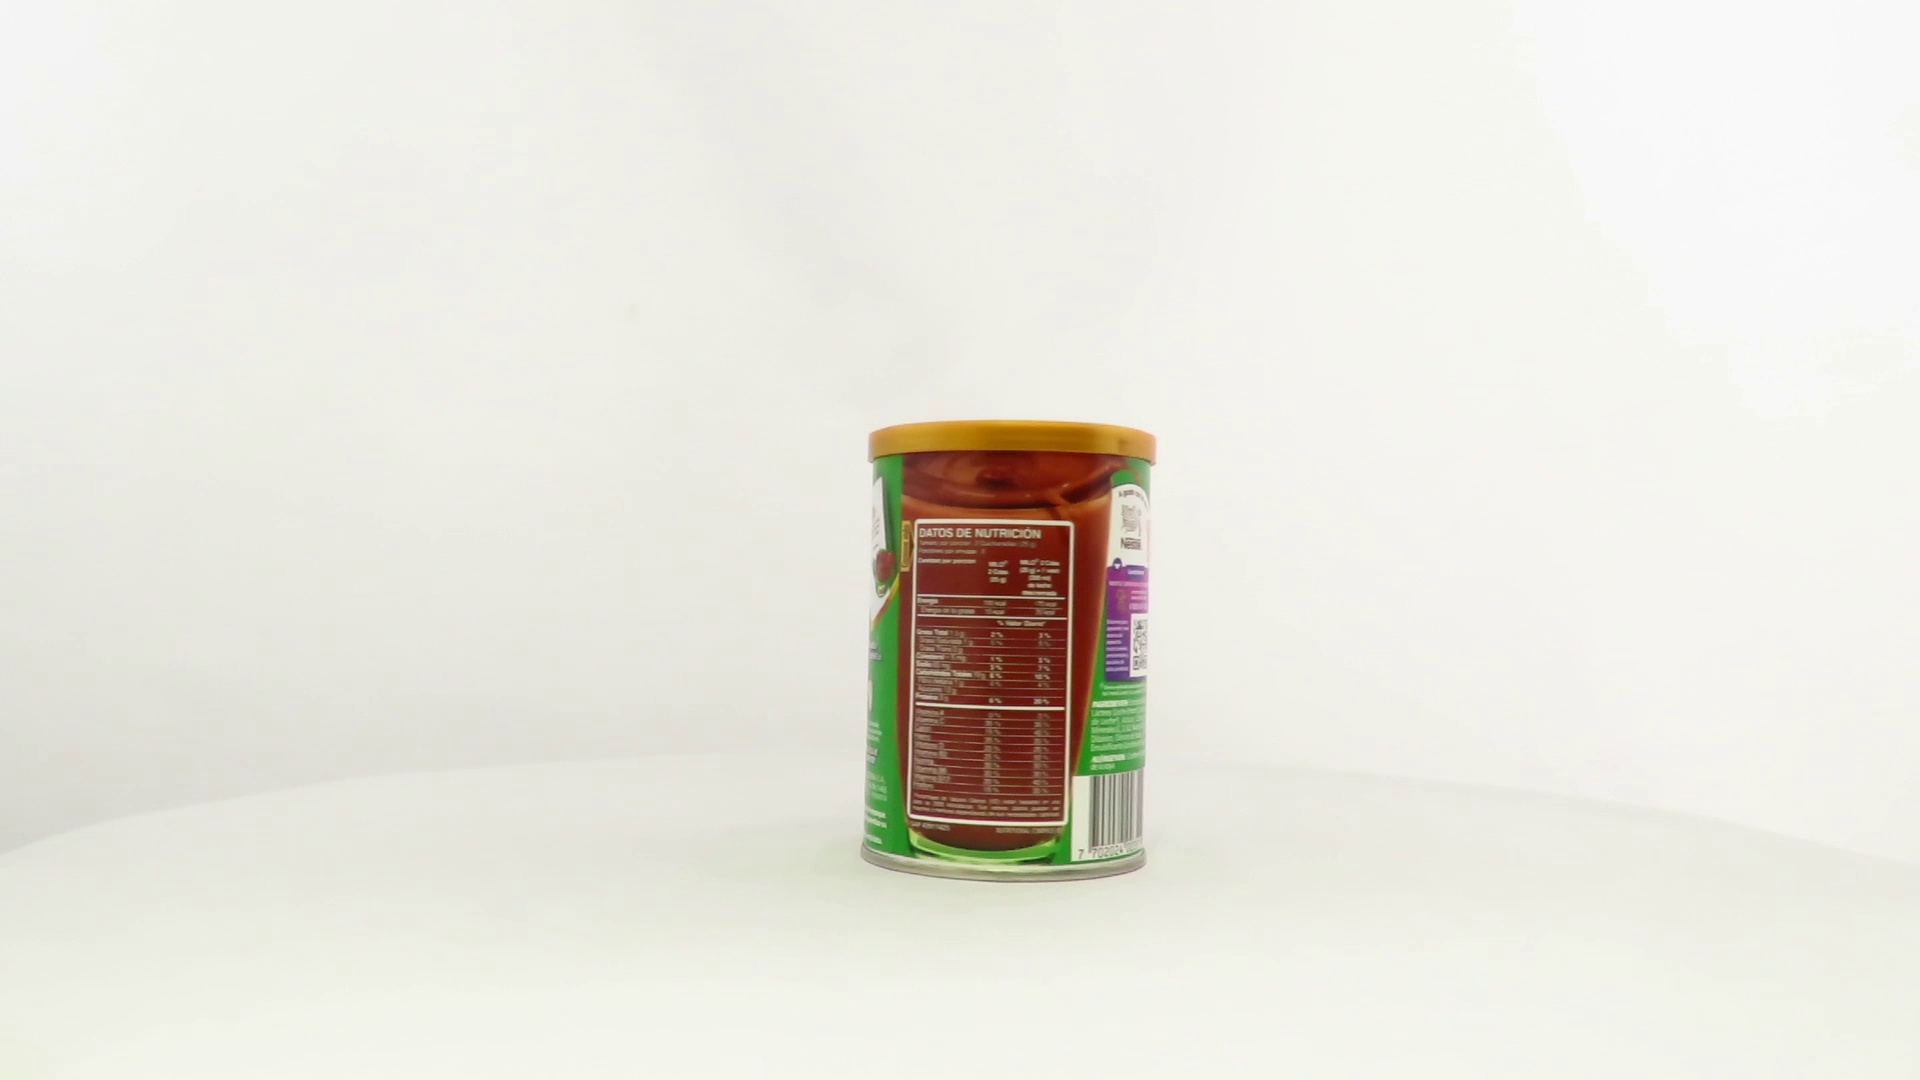COL0170203LAT20000: (855, 414, 1163, 889)
